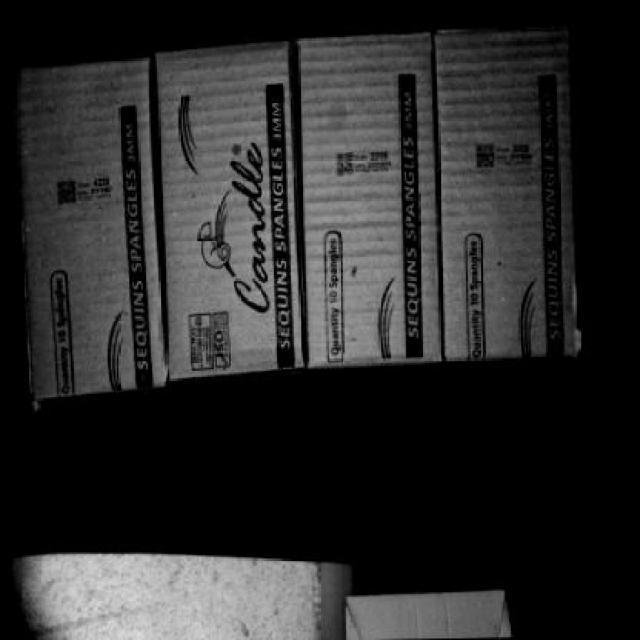cardboxes: (19, 61, 168, 393), (437, 17, 581, 354), (301, 40, 441, 365), (165, 53, 303, 372)
